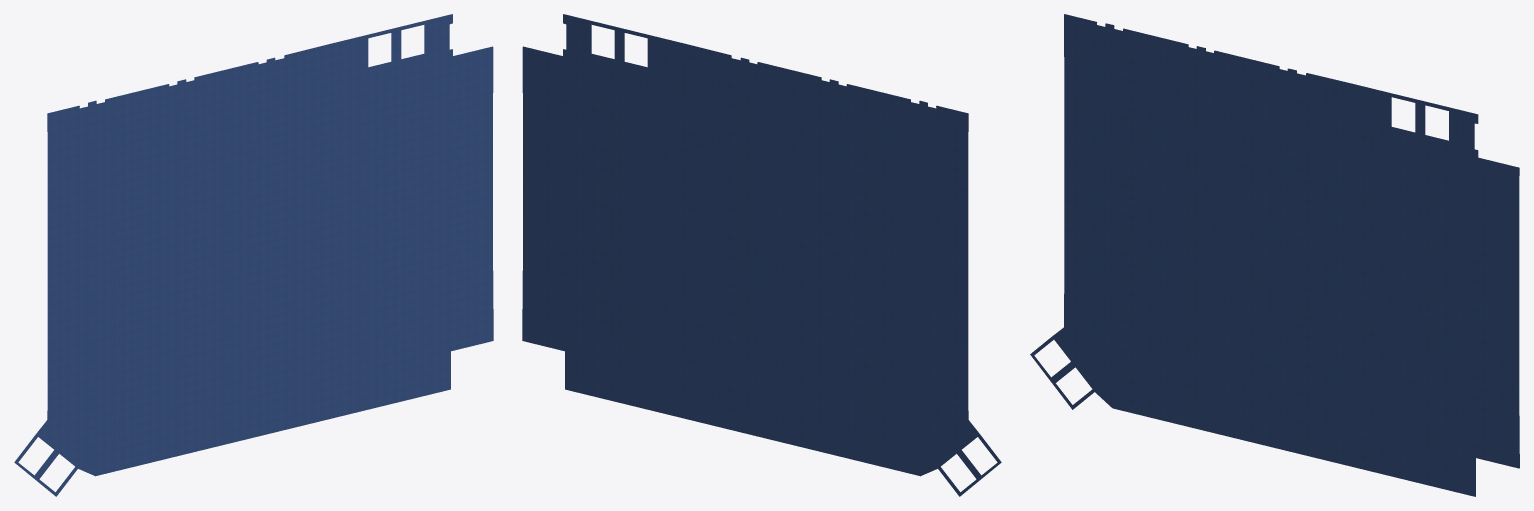
Rendered from floor_1.obj.
The picture shows the model from 3 angles, left to right: view 1: azimuth 30°, elevation 25°; view 2: azimuth 150°, elevation 25°; view 3: azimuth 330°, elevation 25°; orthographic projection. The views are drawn at different scales.
Parts seen in each view (by area): view 1: floor_1; view 2: floor_1; view 3: floor_1.
Part boxes in pixels (x1,y1,x2,y2): floor_1: [14, 14, 493, 496]; floor_1: [522, 14, 1001, 496]; floor_1: [1030, 14, 1519, 496].
Bounding box in the file's own units: 52.8 × 40.67 × 0.1.
